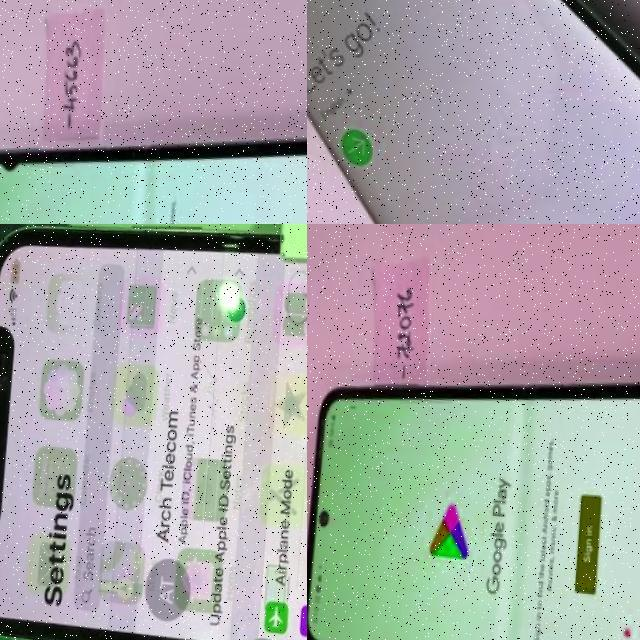dead pixel: (0, 133, 29, 195), (610, 594, 640, 640)
